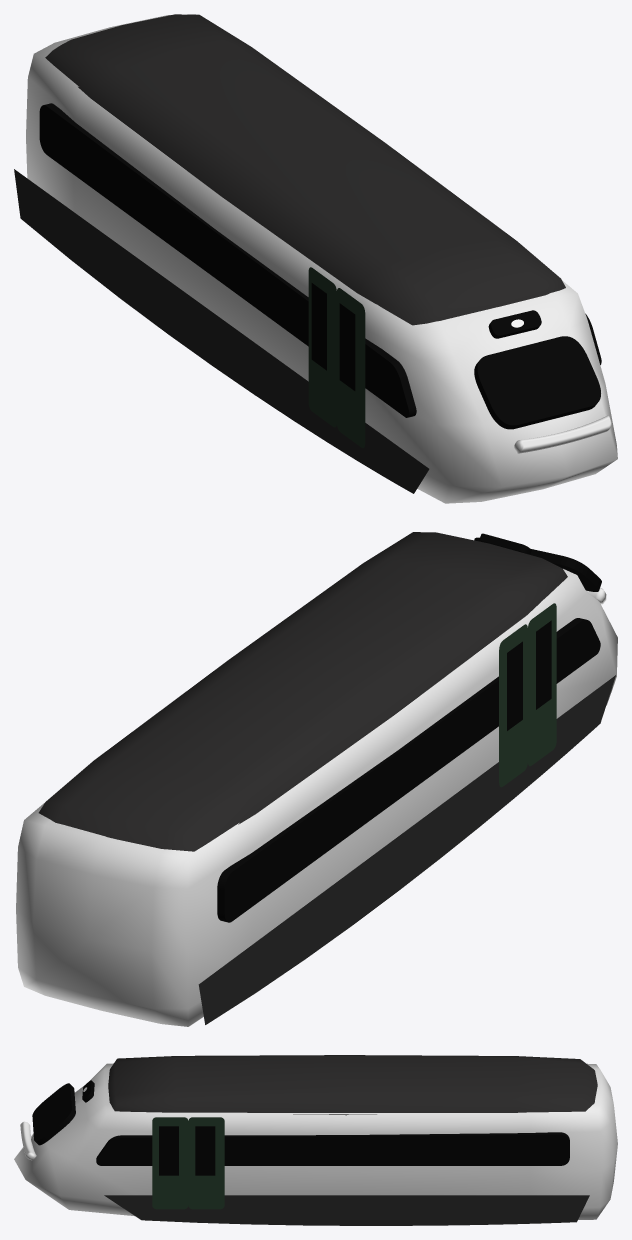
Rendered from tren.glb.
The picture shows the model from 3 angles, top to bottom: view 1: azimuth 30°, elevation 25°; view 2: azimuth 150°, elevation 25°; view 3: azimuth 270°, elevation 25°; orthographic projection. The views are drawn at different scales.
Visible parts, largest first — view 1: top, body, Rectangle 3, window 2, front window, door (×2), Rectangle 2 (×2), front lights, headlight; view 2: top, body, Rectangle 3, window 2, door (×2), Rectangle 2 (×2), front window; view 3: body, top, Rectangle 2 (×3), window, door (×2), front window, front lights.
Part boxes in pixels (x1=…): top: x1=45, y1=14, x2=565, y2=325; body: x1=26, y1=14, x2=617, y2=503; Rectangle 3: x1=14, y1=169, x2=429, y2=493; window 2: x1=39, y1=103, x2=416, y2=417; front window: x1=474, y1=336, x2=600, y2=429; door (×2): x1=308, y1=267, x2=365, y2=447; Rectangle 2 (×2): x1=311, y1=283, x2=355, y2=390; front lights: x1=514, y1=415, x2=611, y2=453; headlight: x1=488, y1=310, x2=541, y2=338; top: x1=38, y1=532, x2=567, y2=851; body: x1=16, y1=569, x2=617, y2=1026; Rectangle 3: x1=198, y1=675, x2=615, y2=1024; window 2: x1=217, y1=618, x2=600, y2=922; door (×2): x1=499, y1=603, x2=556, y2=787; Rectangle 2 (×2): x1=507, y1=620, x2=551, y2=730; front window: x1=474, y1=537, x2=601, y2=591; body: x1=14, y1=1063, x2=617, y2=1219; top: x1=108, y1=1055, x2=597, y2=1115; Rectangle 2 (×3): x1=104, y1=1126, x2=589, y2=1225; window: x1=96, y1=1132, x2=569, y2=1165; door (×2): x1=152, y1=1117, x2=224, y2=1209; front window: x1=32, y1=1083, x2=75, y2=1145; front lights: x1=20, y1=1121, x2=36, y2=1160.
Bounding box in the file's own units: 0.8136 × 0.7705 × 3.32.
